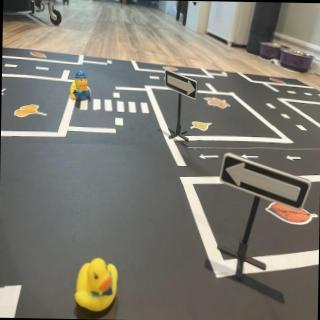duck_regular: (76, 258, 119, 309)
duck_specialty: (69, 68, 94, 101)
road_crosswalk: (79, 94, 154, 117)
road_oneway: (199, 152, 221, 161), (283, 155, 305, 163), (241, 154, 262, 160)
sign_oneway_left: (220, 153, 310, 209)
sign_oneway_right: (165, 72, 200, 102)
